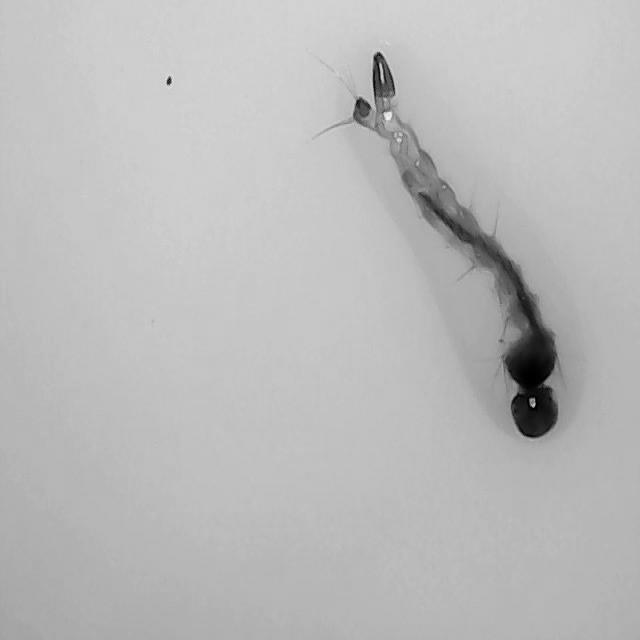larvas: (353, 52, 560, 440)
